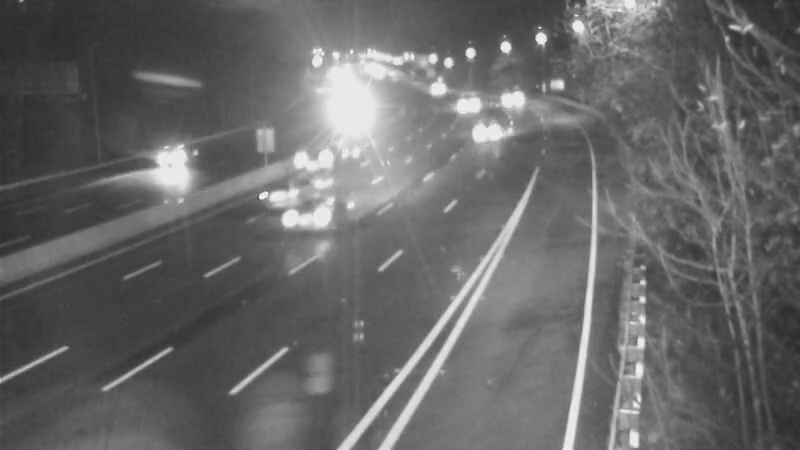vehicle: (273, 120, 353, 200), (236, 155, 316, 235), (261, 182, 341, 262), (133, 115, 213, 195), (408, 66, 458, 116), (485, 74, 535, 124), (434, 83, 484, 133), (453, 106, 503, 156), (332, 81, 382, 131)
